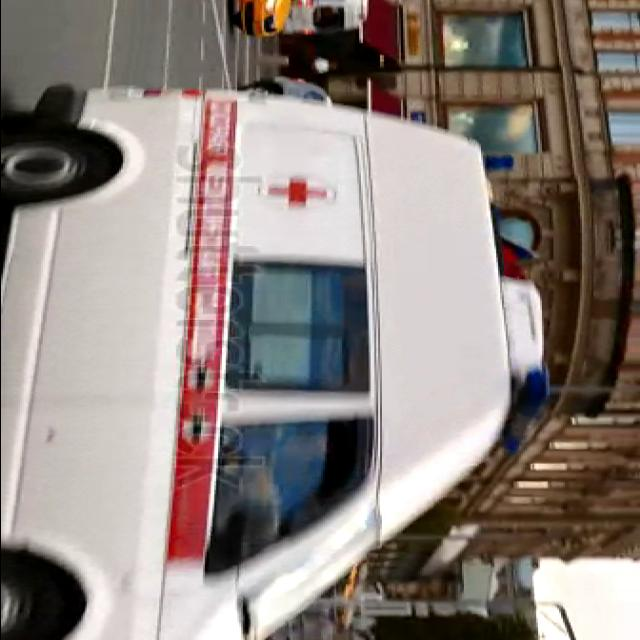ambulance: (4, 90, 543, 632)
